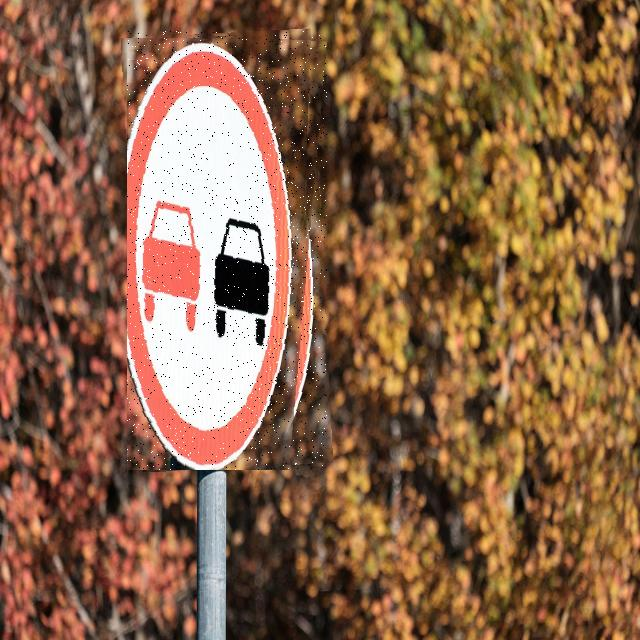no overtaking: (127, 31, 327, 470)
